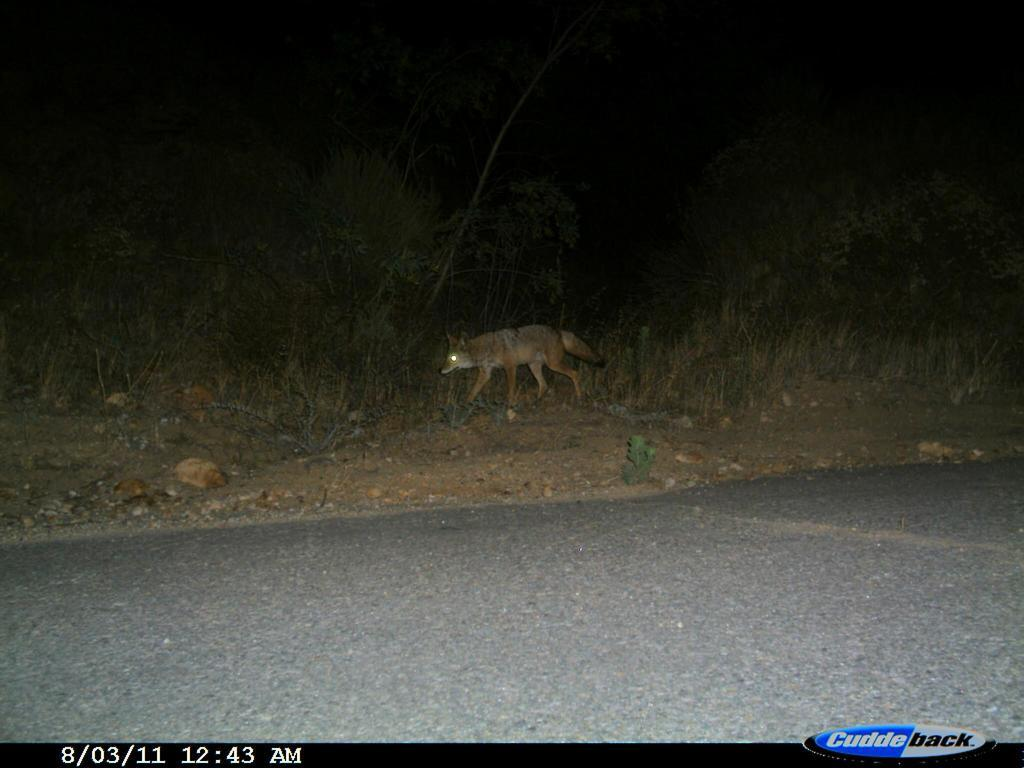coyote: (433, 305, 612, 420)
